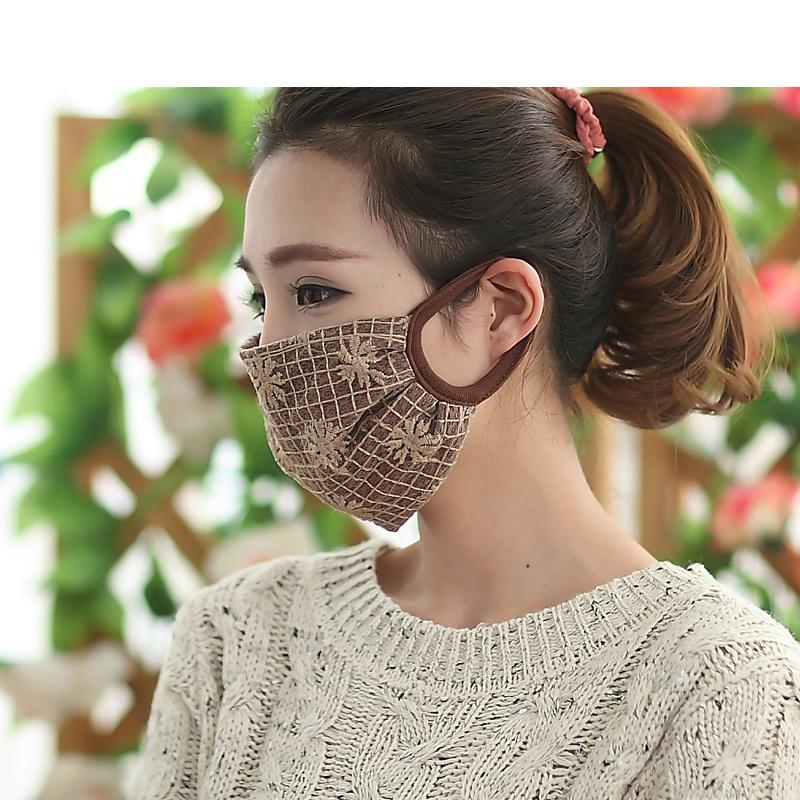OK: (246, 222, 536, 512)
